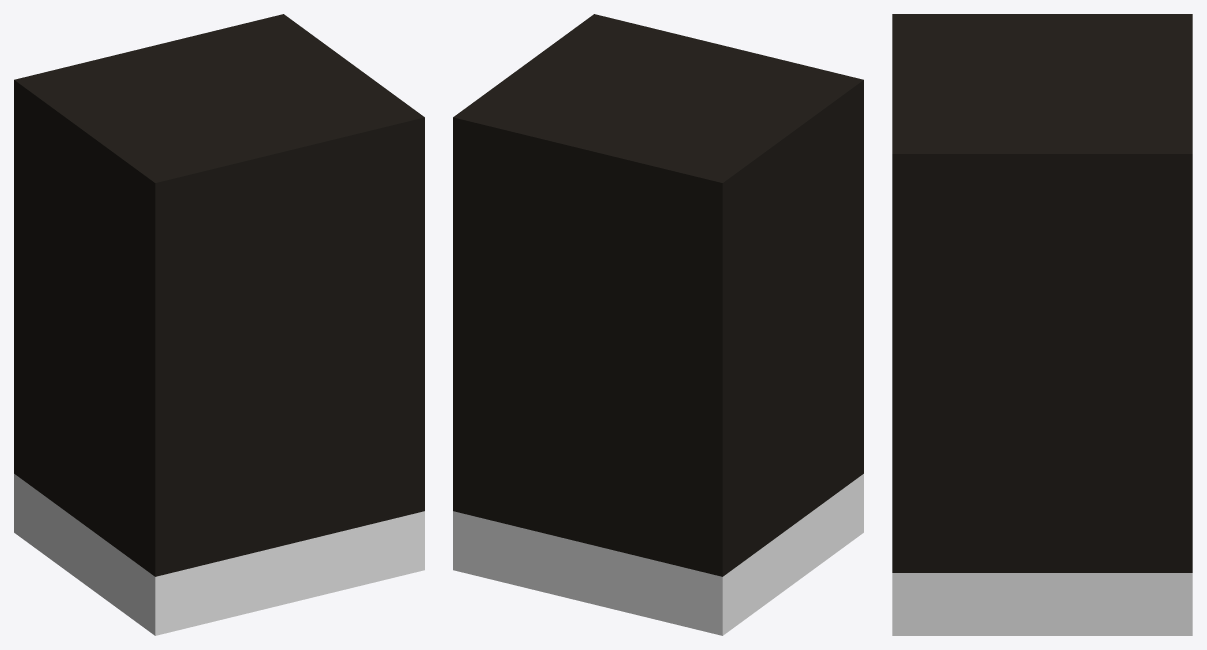
The model's file is evilnoob-1.obj.
3 renders of one model, left to right at view 1: azimuth 30°, elevation 25°; view 2: azimuth 150°, elevation 25°; view 3: azimuth 270°, elevation 25°, orthographic. The views are drawn at different scales.
Bounding box in the file's own units: 4.3 × 6.9 × 3.9.
1 material, 1 textured.
